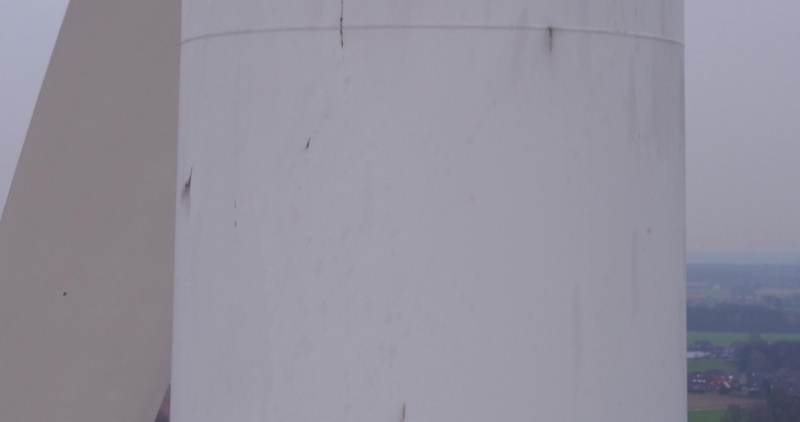weldseam: (179, 19, 687, 53)
